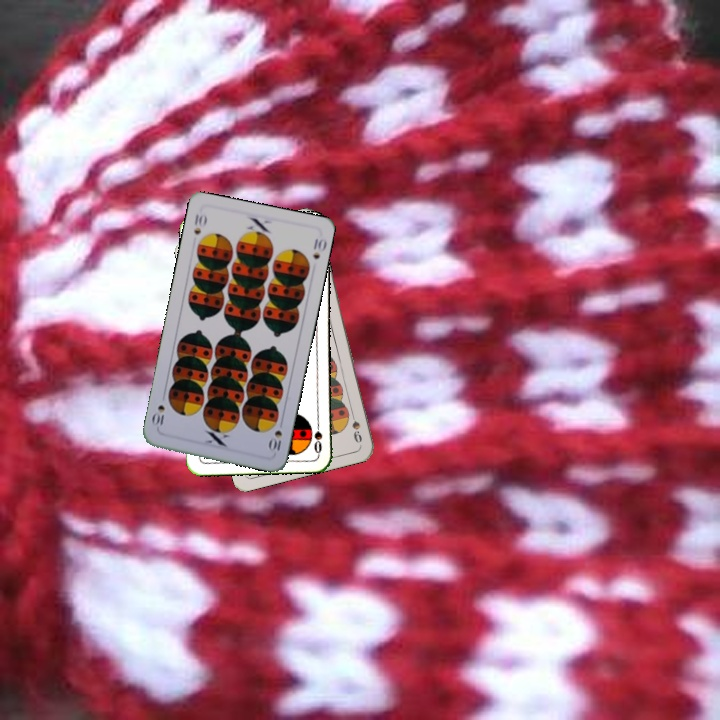S10: (265, 416, 286, 454), (190, 210, 209, 237)
S9: (347, 406, 365, 446)
SO: (310, 415, 325, 456)
